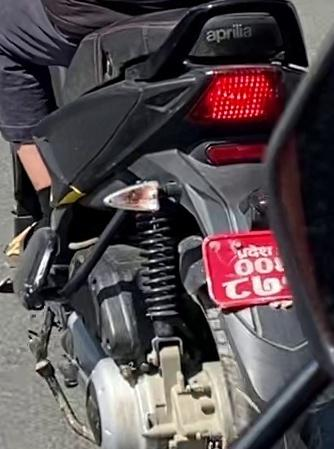license-plate: (192, 224, 326, 309)
